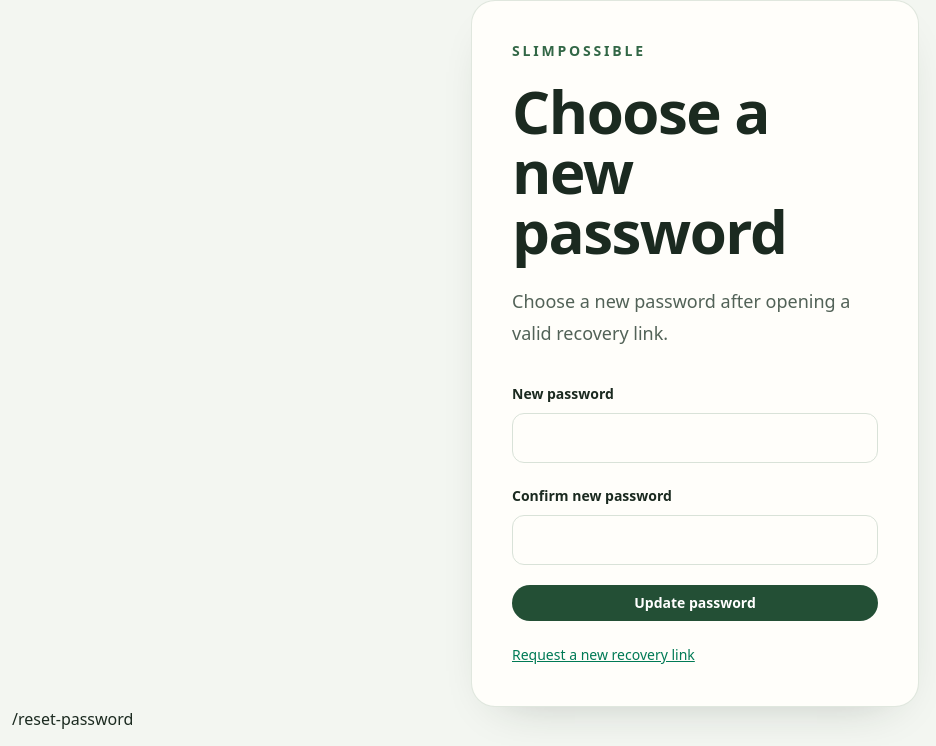
Test: ResetPasswordPage › updates a password only for a valid recovery session and returns to login
The width and height of the screenshot is (936, 746).
Type "new-password" into the password field labelled "New password".
click(695, 438); type("new-password")  # box x1=512 y1=413 x2=878 y2=463
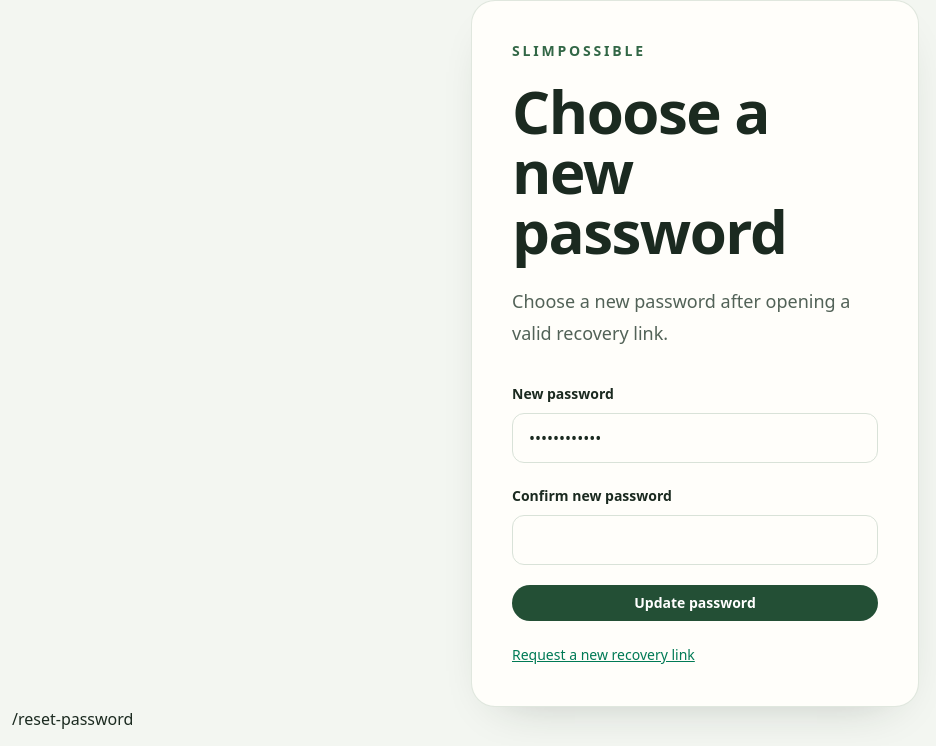
Type "new-password" into the password field labelled "Confirm new password".
click(695, 540); type("new-password")  # box x1=512 y1=515 x2=878 y2=565
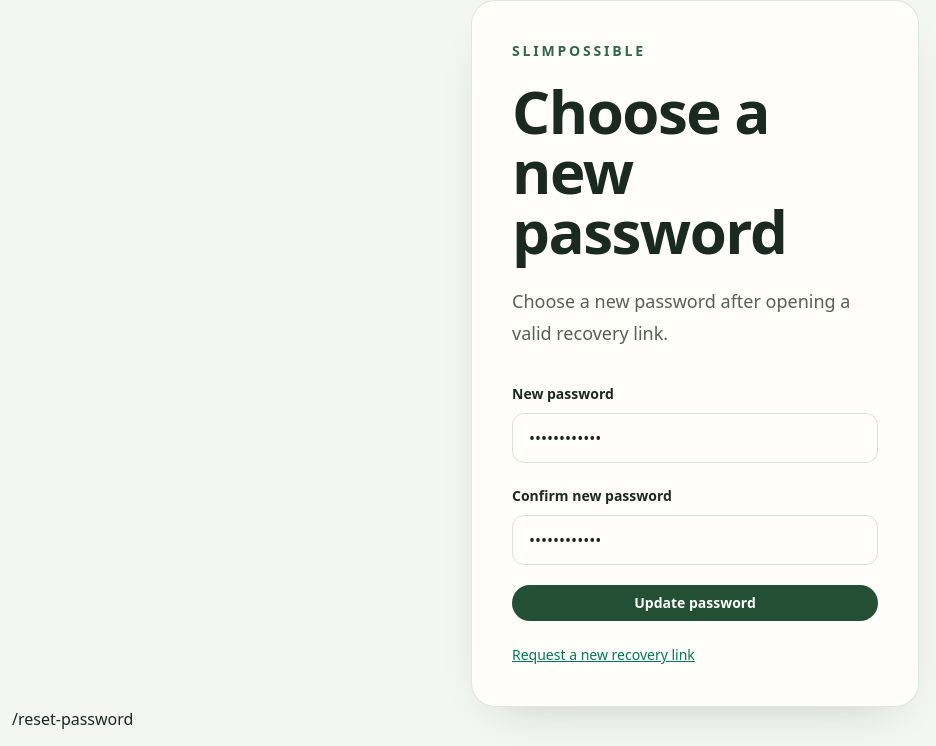
Submit the form named "Reset password form", box x1=512 y1=381 x2=878 y2=621
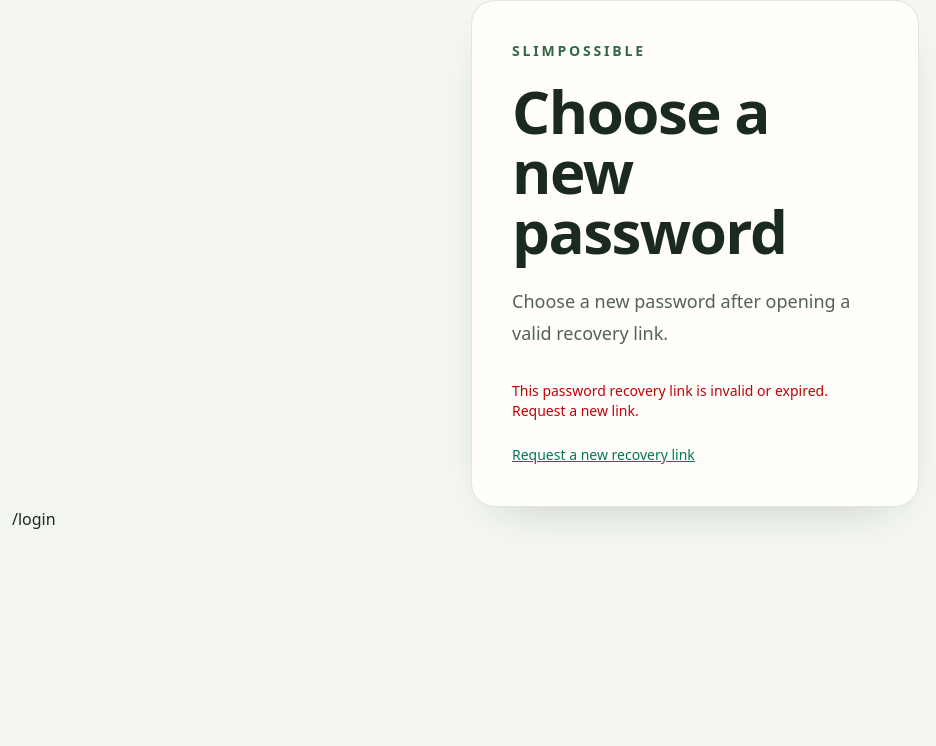
Expected: the text "/login" is shown, x1=12 y1=508 x2=56 y2=530
